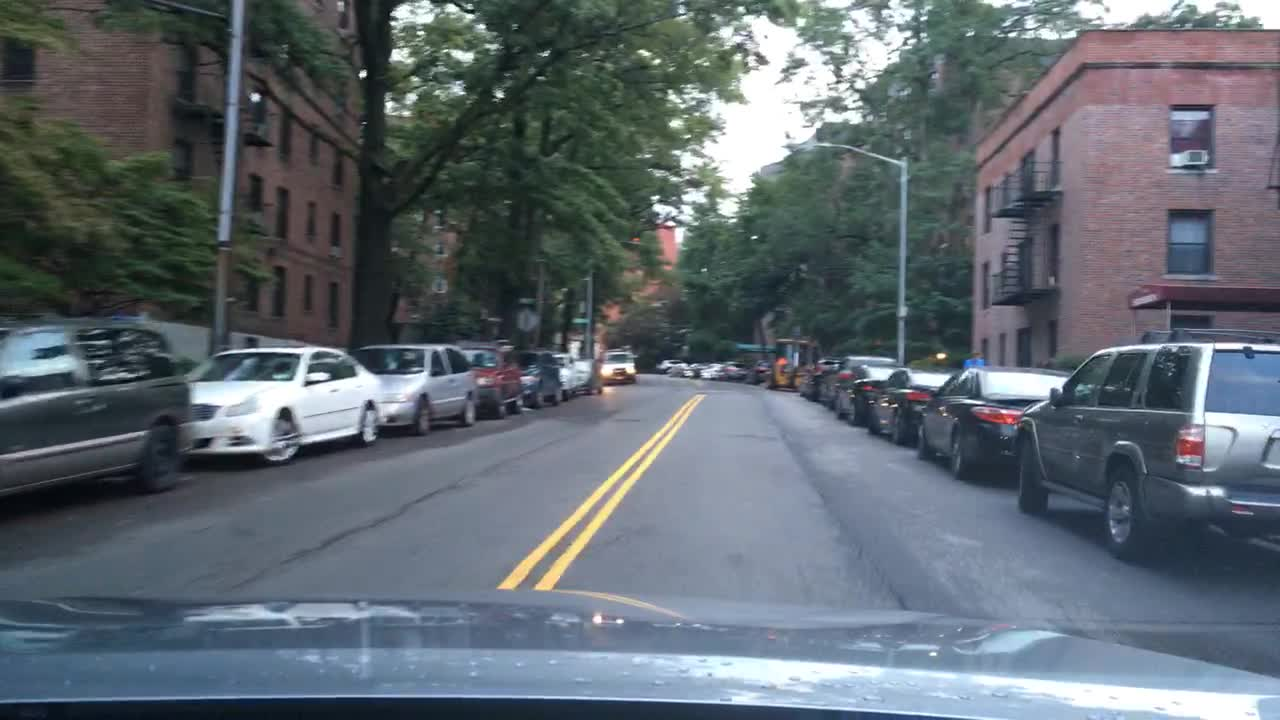car: (1016, 333, 1279, 554), (0, 317, 193, 502), (188, 344, 380, 465), (915, 367, 1067, 479), (357, 345, 478, 432), (869, 369, 953, 444), (460, 338, 523, 416), (820, 355, 894, 408), (838, 366, 903, 425), (513, 346, 562, 409), (761, 339, 817, 388), (800, 359, 840, 397), (600, 350, 637, 387), (572, 359, 602, 395), (553, 352, 572, 402), (738, 360, 772, 381), (716, 360, 749, 380), (695, 360, 723, 376), (665, 362, 691, 378), (682, 362, 709, 376), (654, 359, 679, 373)
person: (960, 352, 983, 373)
traffic sign: (518, 308, 537, 332), (571, 318, 590, 325)
